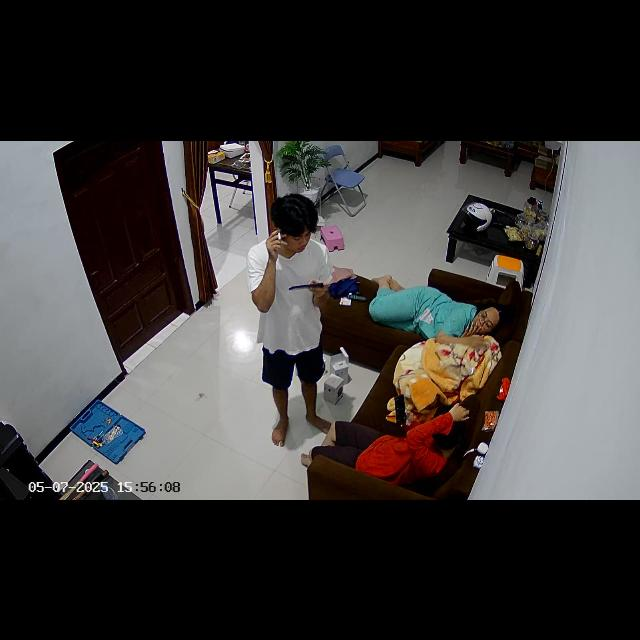rokok: (276, 232, 282, 240)
